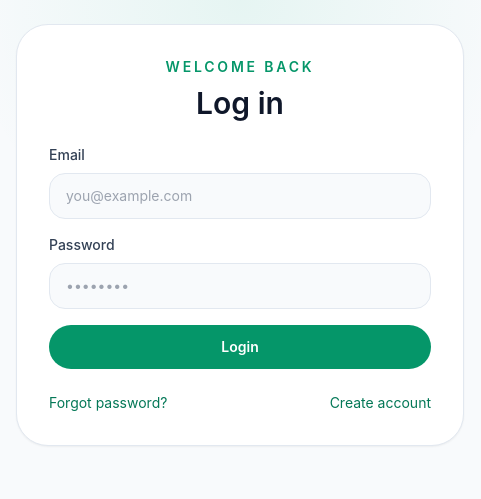
Test case: VisitCebu user flows (Supabase calls mocked) › submits login data to the mocked auth provider and shows its error
The width and height of the screenshot is (481, 499).
Type "traveler@example.test" into the field labelled "Email" at (240, 196), box [49,173,431,219]
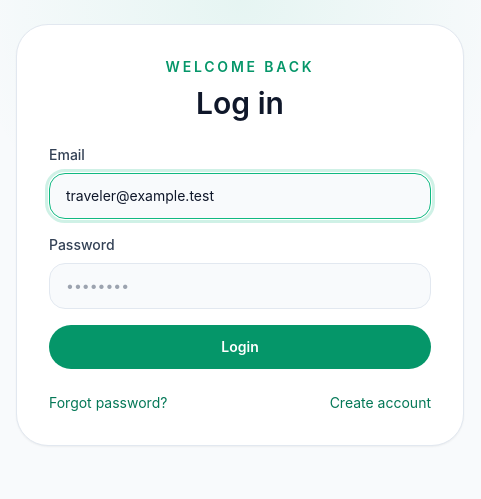
Type "not-a-real-password" into the password field labelled "Password" at (240, 286), box [49,263,431,309]
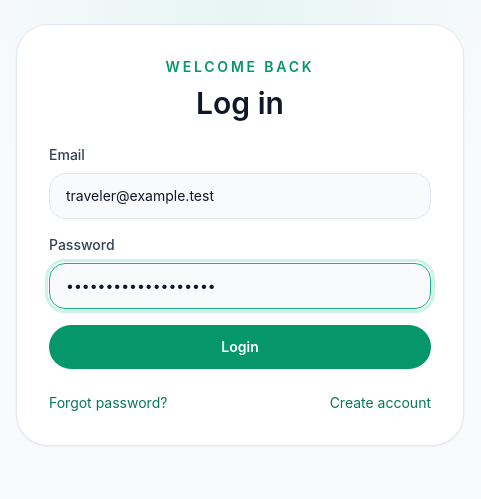
Click the button "Login" at (240, 347), box [49,325,431,369]
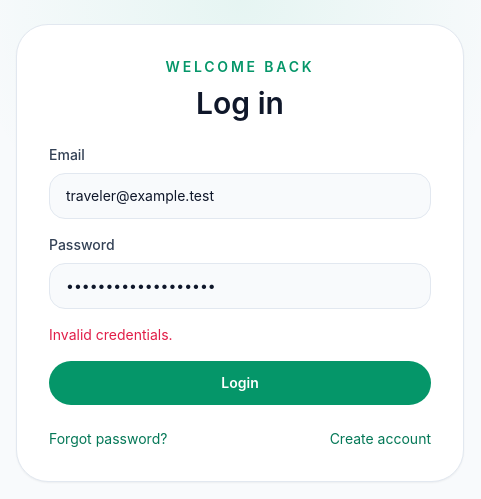
Result: the message reads "Invalid credentials." at [49,326,173,343]
